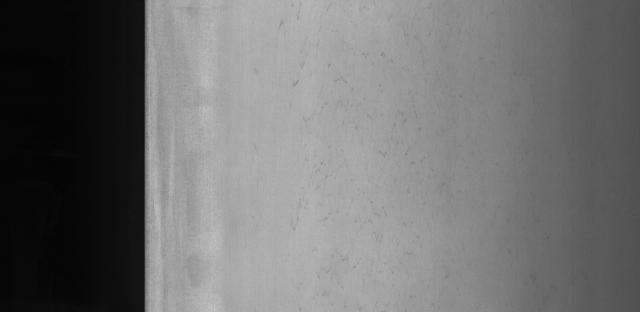silk_spot: (267, 0, 450, 303)
